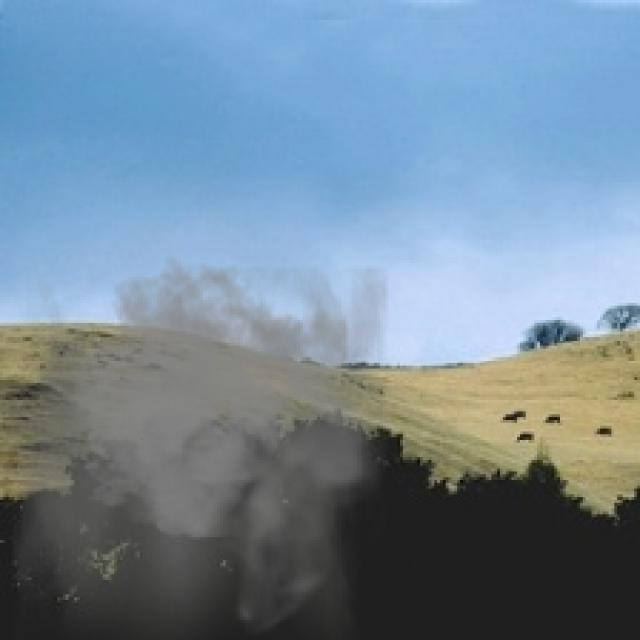smoke: (11, 254, 392, 637)
